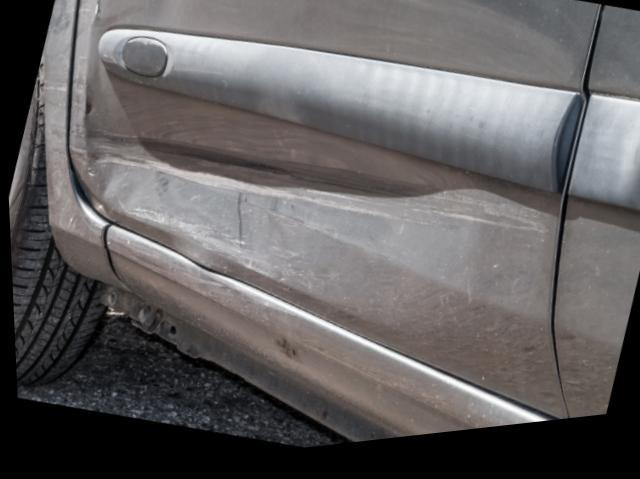crack: (99, 226, 129, 295)
dent: (82, 84, 463, 327)
